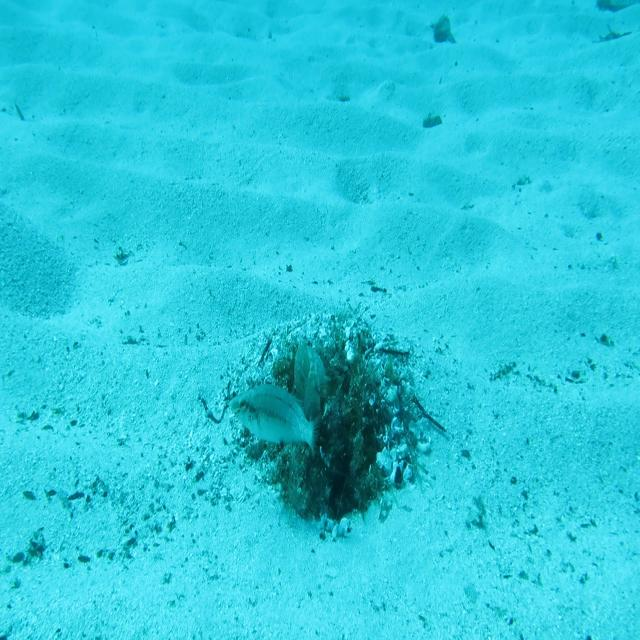NIP_IN: (291, 340, 329, 421)
female: (228, 379, 323, 462)
nest: (226, 296, 439, 550)
vegetation: (588, 0, 639, 43), (427, 13, 461, 49), (422, 112, 444, 132)
